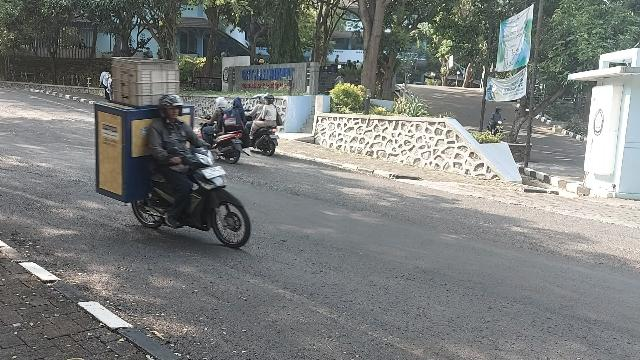helm: (160, 95, 184, 119)
motor: (133, 138, 251, 249)
